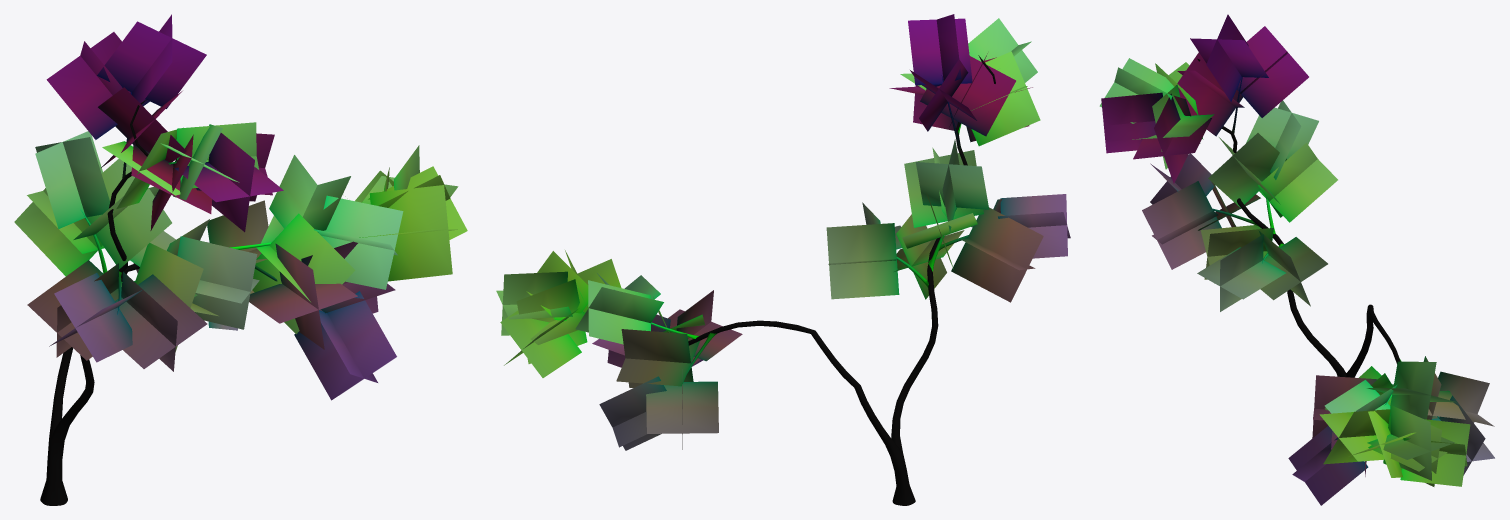
The model's file is URP_P5_Tree_8_LOD_0.fbx.
3 renders of one model, left to right at view 1: azimuth 30°, elevation 25°; view 2: azimuth 150°, elevation 25°; view 3: azimuth 270°, elevation 25°, orthographic. The views are drawn at different scales.
Visible parts, largest first — view 1: Tree_8_LOD_0; view 2: Tree_8_LOD_0; view 3: Tree_8_LOD_0.
Boxes of the visible parts, left/top/right/bottom form: Tree_8_LOD_0: left=14, top=14, right=467, bottom=505; Tree_8_LOD_0: left=496, top=14, right=1070, bottom=505; Tree_8_LOD_0: left=1099, top=14, right=1494, bottom=505.
Size of the model in its own units: 616 by 568 by 490.
